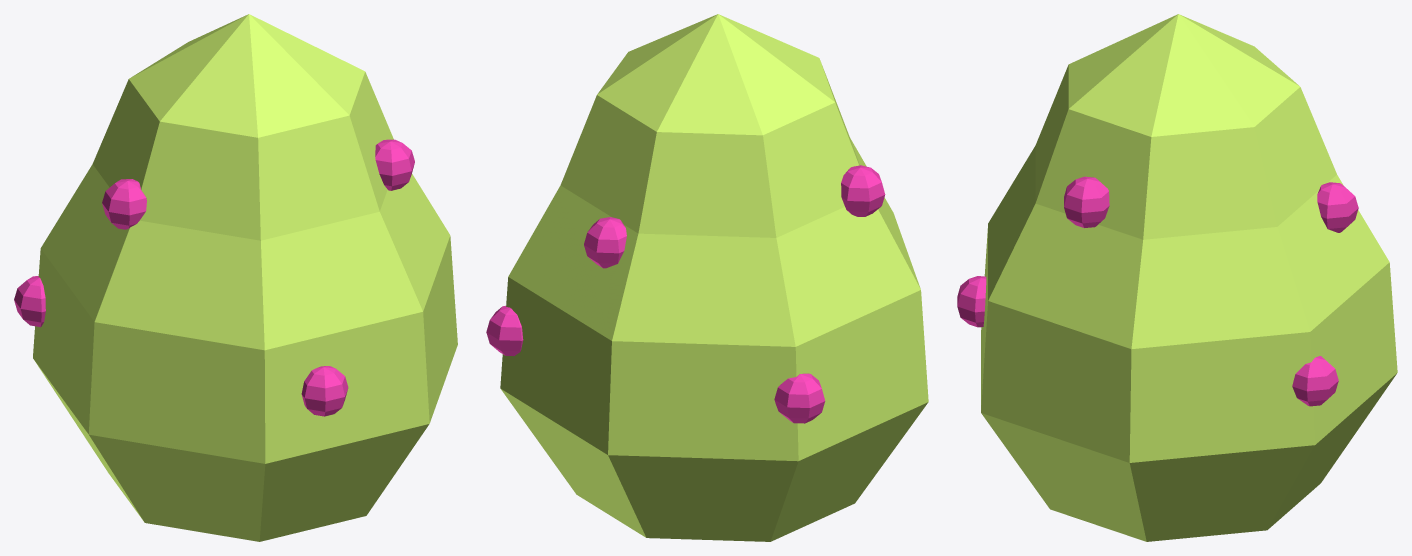
File: Tree4.fbx
3 views of the same model, side by side, from view 1: azimuth 30°, elevation 25°; view 2: azimuth 150°, elevation 25°; view 3: azimuth 270°, elevation 25° (orthographic).
Visible parts, largest first — view 1: Bush.024, Sphere.177, Sphere.176, Sphere.178, Sphere.175; view 2: Bush.024, Sphere.175, Sphere.176, Sphere.173, Sphere.174; view 3: Bush.024, Sphere.178, Sphere.174, Sphere.173, Sphere.177.
Part boxes in pixels (x1,y1,x2,y2): Bush.024: [33, 14, 457, 541]; Sphere.177: [301, 366, 348, 416]; Sphere.176: [102, 179, 146, 229]; Sphere.178: [375, 139, 414, 190]; Sphere.175: [14, 276, 45, 327]; Bush.024: [500, 14, 928, 541]; Sphere.175: [774, 373, 825, 423]; Sphere.176: [841, 165, 885, 216]; Sphere.173: [584, 217, 626, 268]; Sphere.174: [486, 305, 523, 355]; Bush.024: [981, 14, 1397, 541]; Sphere.178: [1064, 176, 1109, 227]; Sphere.174: [1292, 356, 1338, 406]; Sphere.173: [1317, 182, 1358, 232]; Sphere.177: [957, 276, 986, 327].
Bounding box in the file's own units: 427 × 517 × 440.
